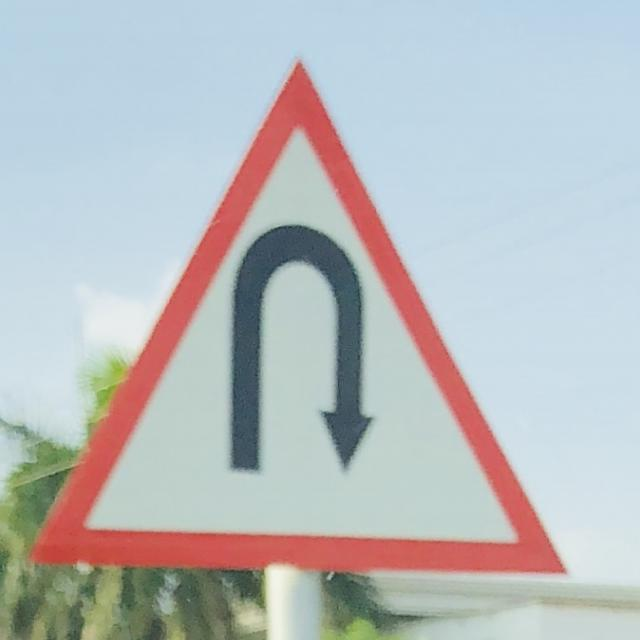u turn: (33, 55, 568, 569)
